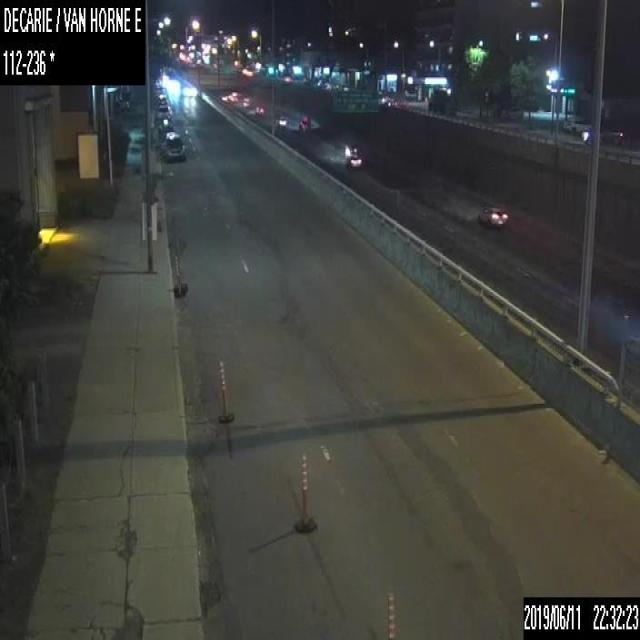construction: (293, 452, 317, 531), (216, 360, 234, 421), (384, 592, 396, 639), (174, 254, 186, 298)
vehicle: (580, 125, 624, 145), (476, 203, 509, 227), (164, 130, 184, 160), (563, 115, 591, 133), (345, 147, 362, 170), (155, 104, 171, 121), (158, 115, 172, 134), (503, 105, 523, 117), (156, 94, 168, 109), (183, 85, 196, 96), (274, 115, 287, 126), (253, 104, 264, 116), (297, 116, 309, 127)
